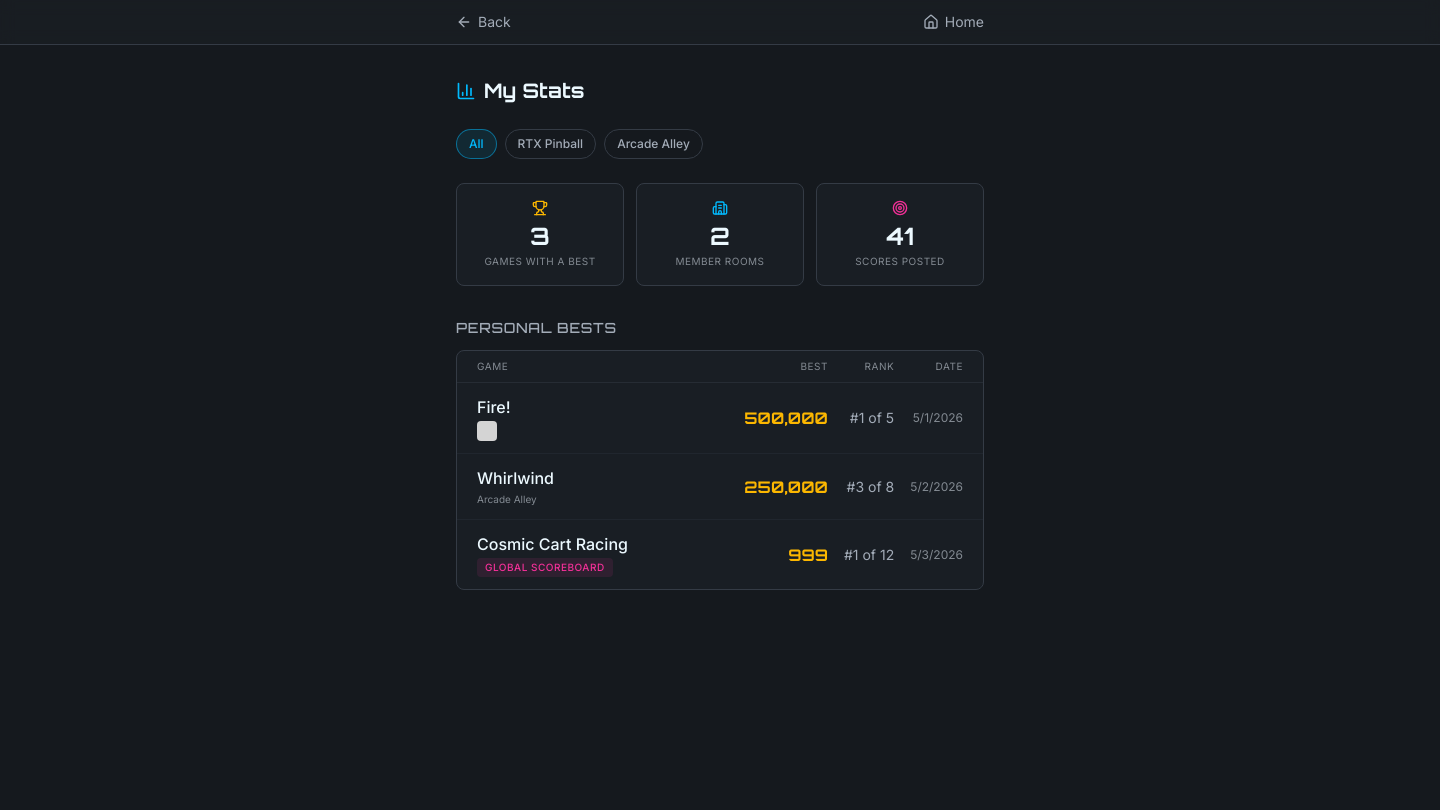
Test: MyStats › scope pills render one per member room and switching refetches with ?scope=<roomId>
The width and height of the screenshot is (1440, 810).
expect the link "Cosmic Cart Racing" is shown: met, box left=477, top=532, right=628, bottom=556
Click the tab "RTX Pinball": [550, 144] box left=505, top=129, right=596, bottom=159
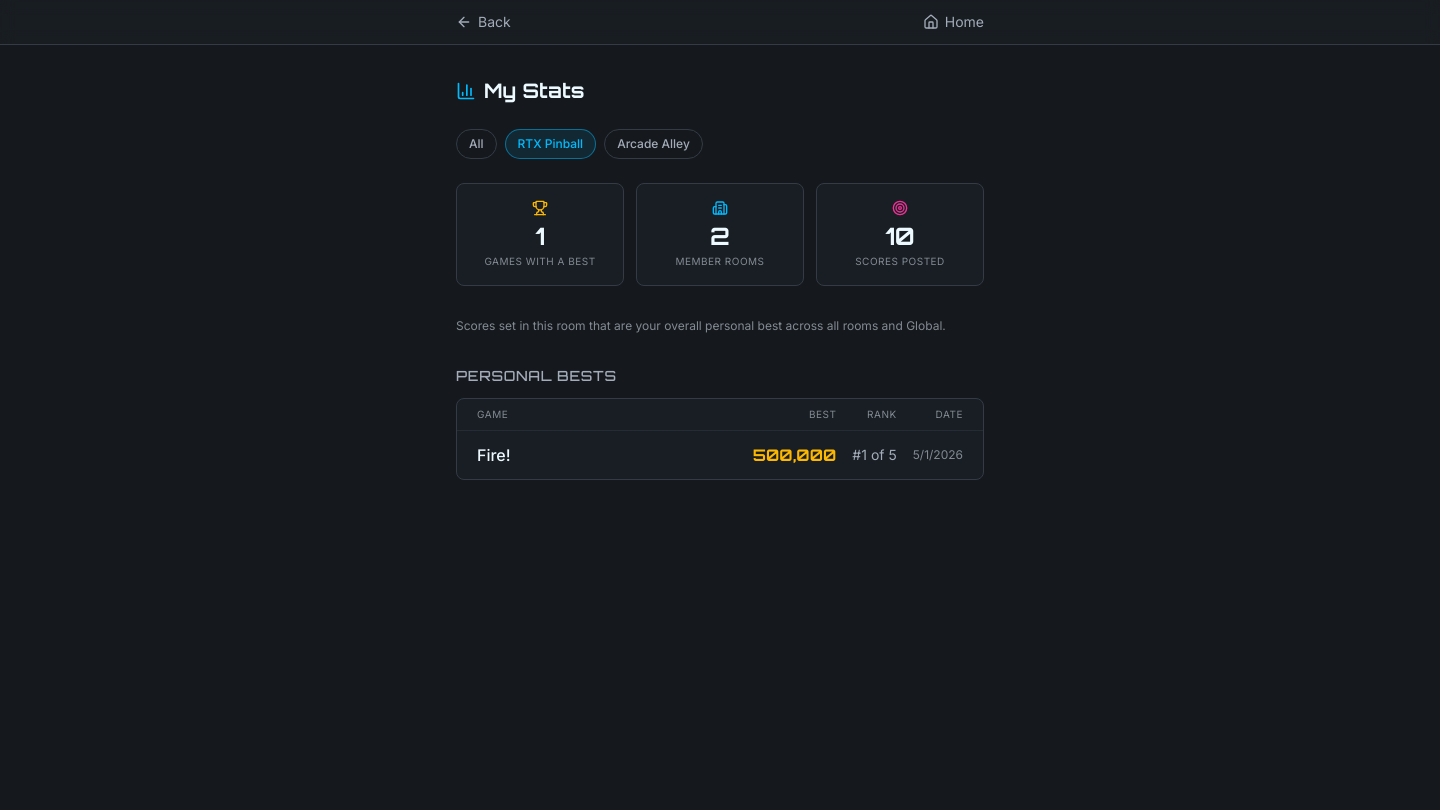
expect the link "Fire!" is shown: met, box left=477, top=443, right=511, bottom=467
expect the link "Cosmic Cart Racing" is gone: met
expect the text "Scores set in this room that are your overall personal best across all rooms and Global." is shown: met, box left=456, top=318, right=946, bottom=333
